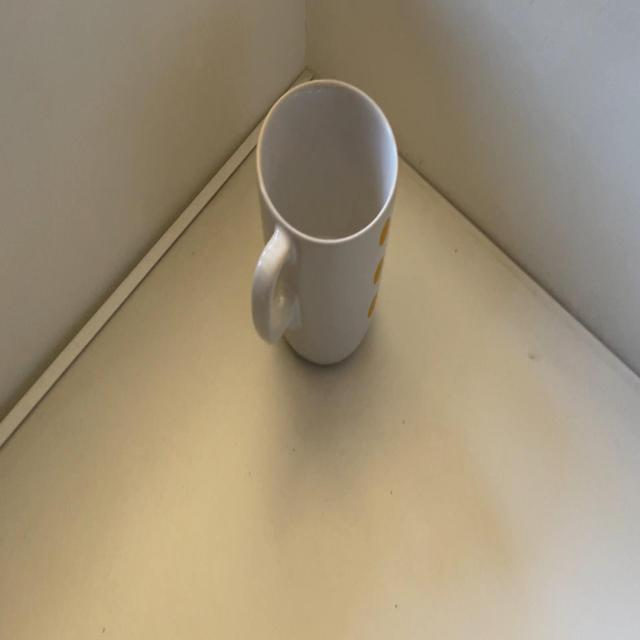cup: (241, 78, 406, 366)
